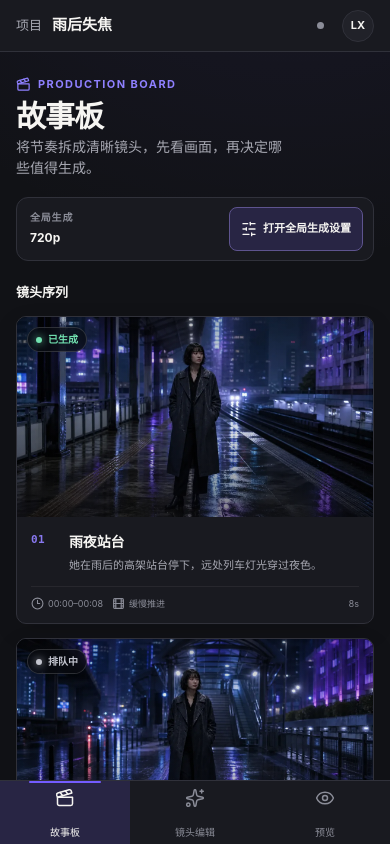
Scenario: StoryboardWorkspace › 提供窄屏全局生成摘要并使用共享 Sheet 展开完整控制
Expected: the element named "全局生成摘要" shows "720p", [30,230,60,245]
Click the button "打开全局生成设置". click: (296, 228)
box: [229,206,363,250]
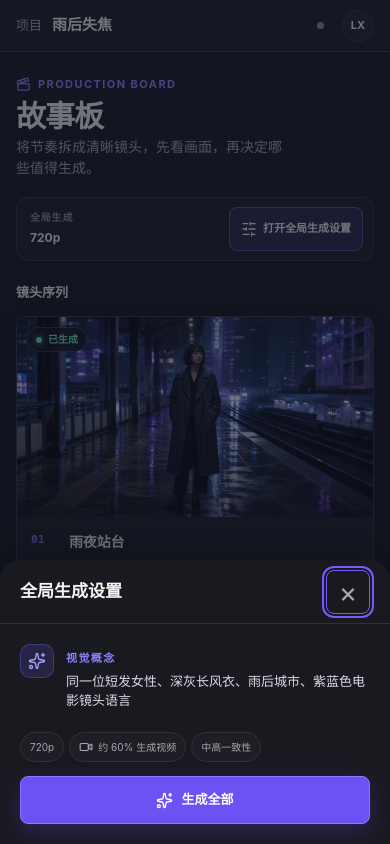
Expected: the button "生成全部" is enabled, [20,776,370,824]
